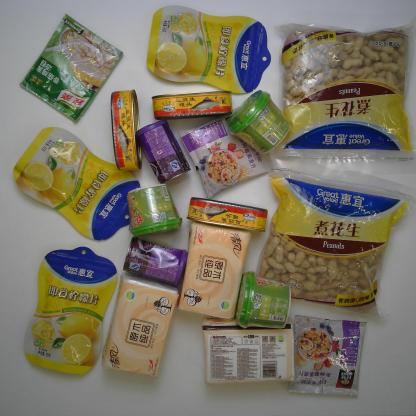Canned Food: (134, 119, 192, 185), (121, 235, 189, 287), (186, 196, 271, 235), (108, 87, 142, 173), (150, 90, 235, 121)
Dried Food: (256, 157, 415, 320), (272, 17, 416, 175)
Dried Fruit: (10, 126, 143, 242), (20, 246, 119, 377), (144, 3, 274, 97)
Instant Drink: (177, 118, 269, 201), (288, 314, 370, 400), (226, 88, 293, 157), (126, 182, 184, 239), (235, 271, 292, 326)
Seasoner: (15, 9, 125, 124)
Tissue: (100, 271, 179, 381), (176, 222, 253, 322), (199, 314, 298, 387)
